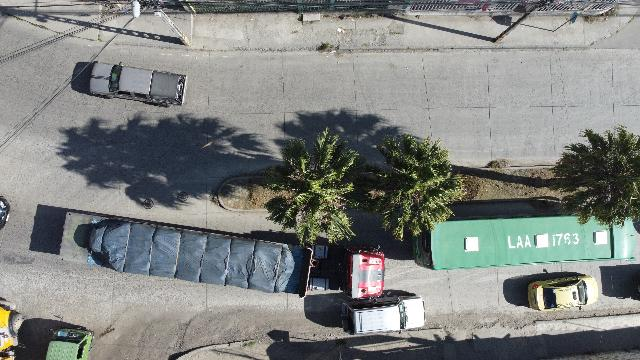Vehiculo: (90, 62, 188, 105), (342, 295, 425, 335), (528, 274, 598, 310), (46, 328, 94, 360)
